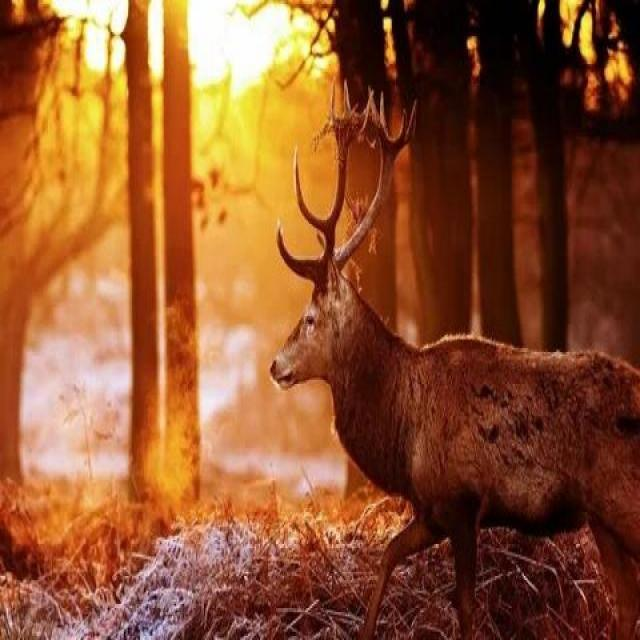deer: (246, 132, 622, 595)
